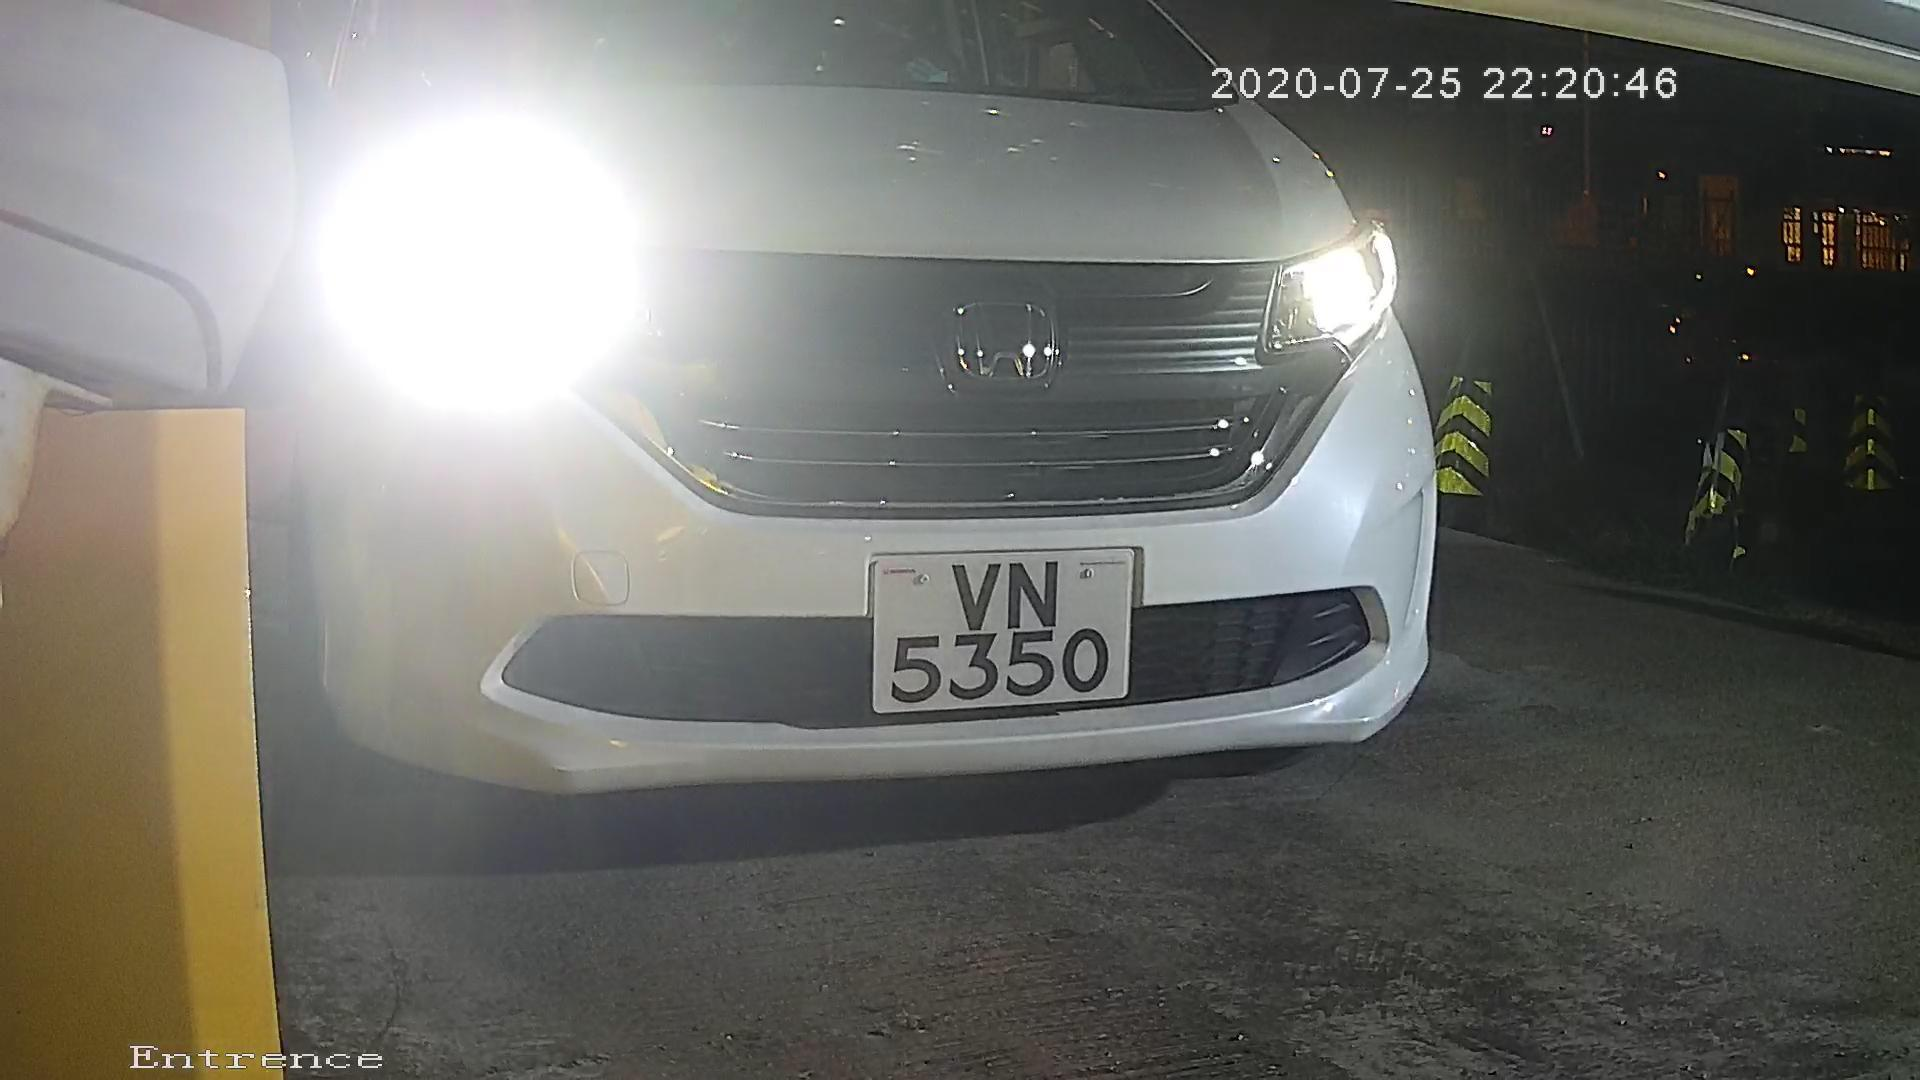privatecar: (208, 3, 1480, 837)
